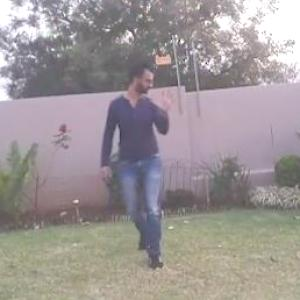follow_hand: (159, 85, 178, 114)
